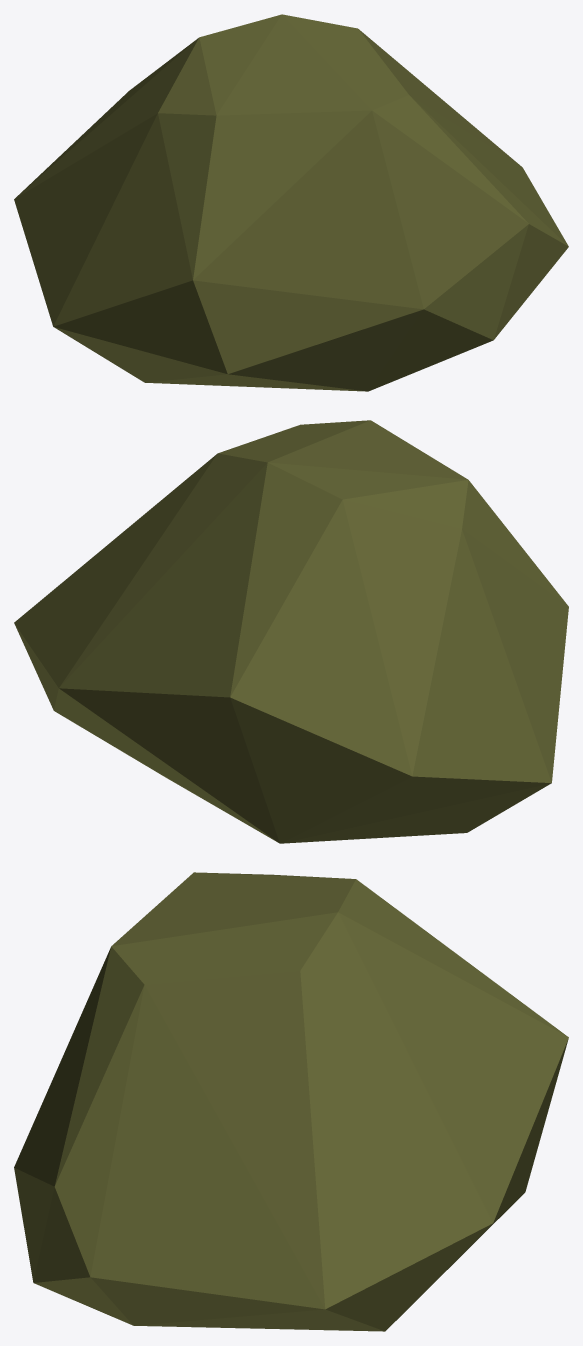
The model's file is Mosh 05.FBX.
3 renders of one model, top to bottom at view 1: azimuth 30°, elevation 25°; view 2: azimuth 150°, elevation 25°; view 3: azimuth 270°, elevation 25°, orthographic. The views are drawn at different scales.
Parts seen in each view (by area): view 1: cube; view 2: cube; view 3: cube.
Part boxes in pixels (bbox=[...]): cube: bbox=[14, 14, 568, 391]; cube: bbox=[14, 420, 568, 843]; cube: bbox=[14, 872, 568, 1331].
Bounding box in the file's own units: 81.96 × 51.27 × 66.61.
